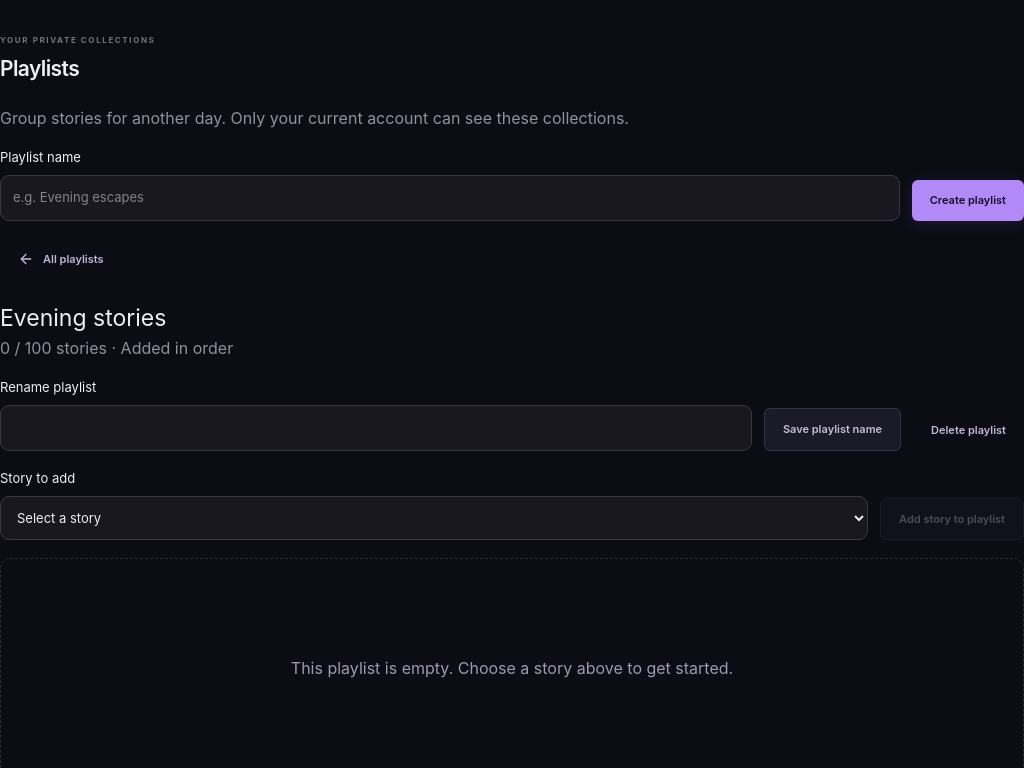
Test: requires confirmation for deletion and exposes server membership errors without discarding the story choice
Expected: the heading "Evening stories" is shown, [0, 304, 166, 332]
Select "The Midnight Frequency" in the dropdown labelled "Story to add" at (434, 518), box [0, 496, 868, 540]
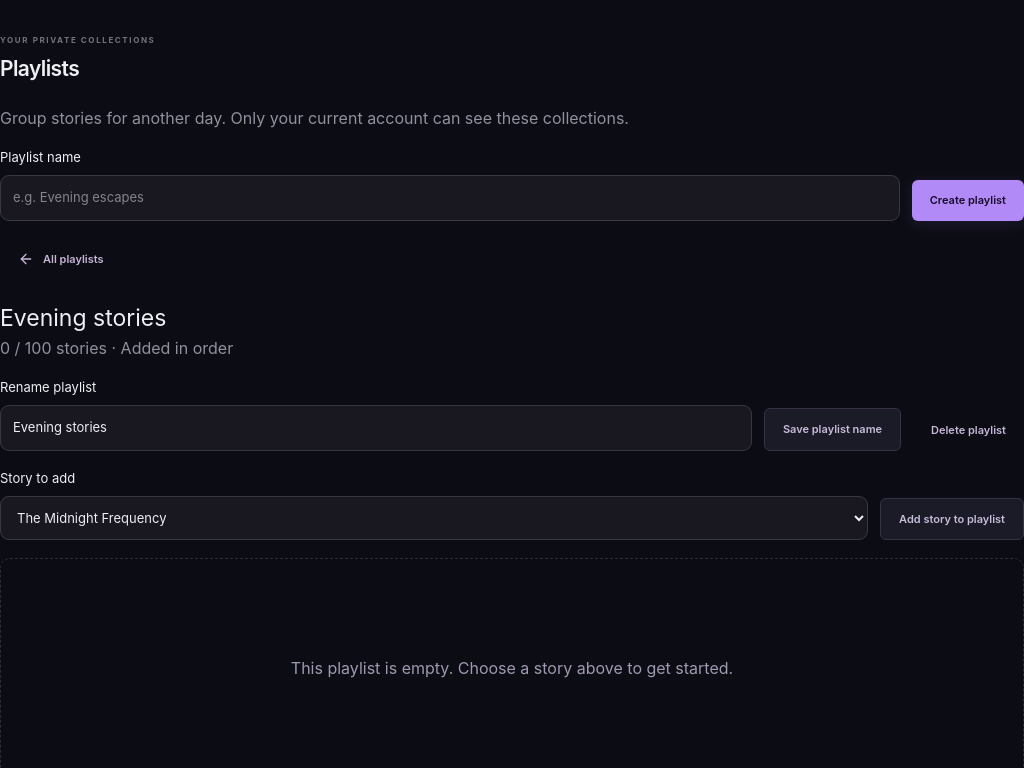
Click the button "Add story to playlist".
click(952, 519)  # box [880, 498, 1023, 540]
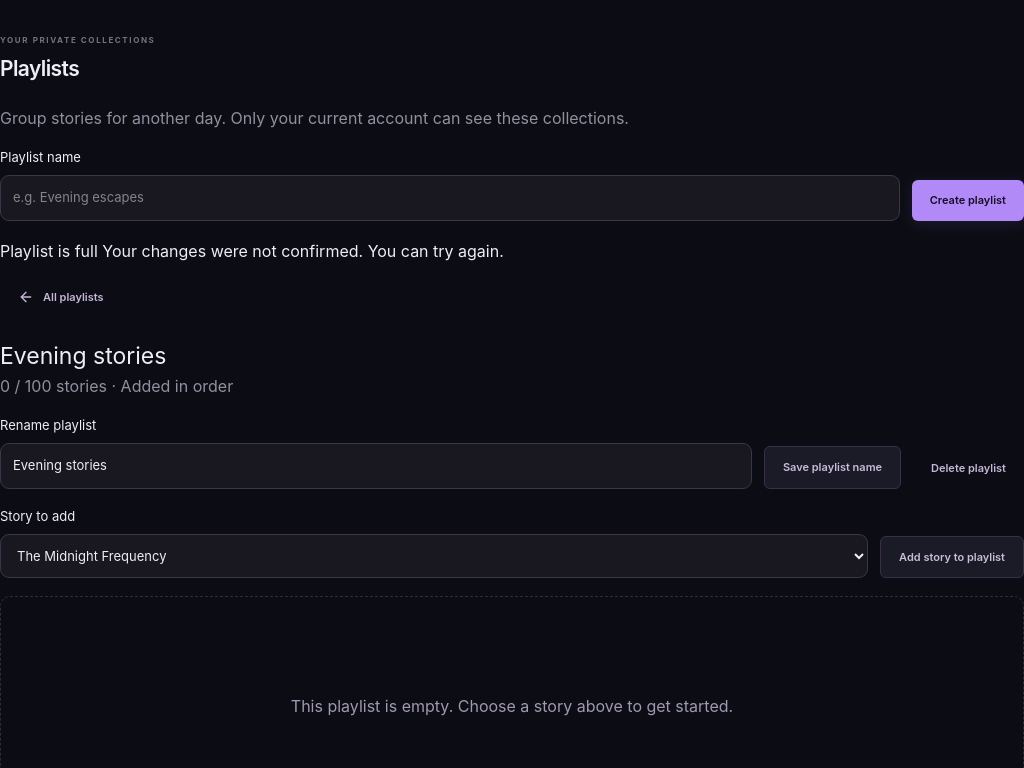
Expected: the message "Playlist is full Your changes were not confirmed. You can try again." is shown, [0, 240, 504, 260]
Click the button "Delete playlist".
click(968, 468)  # box [913, 448, 1023, 488]
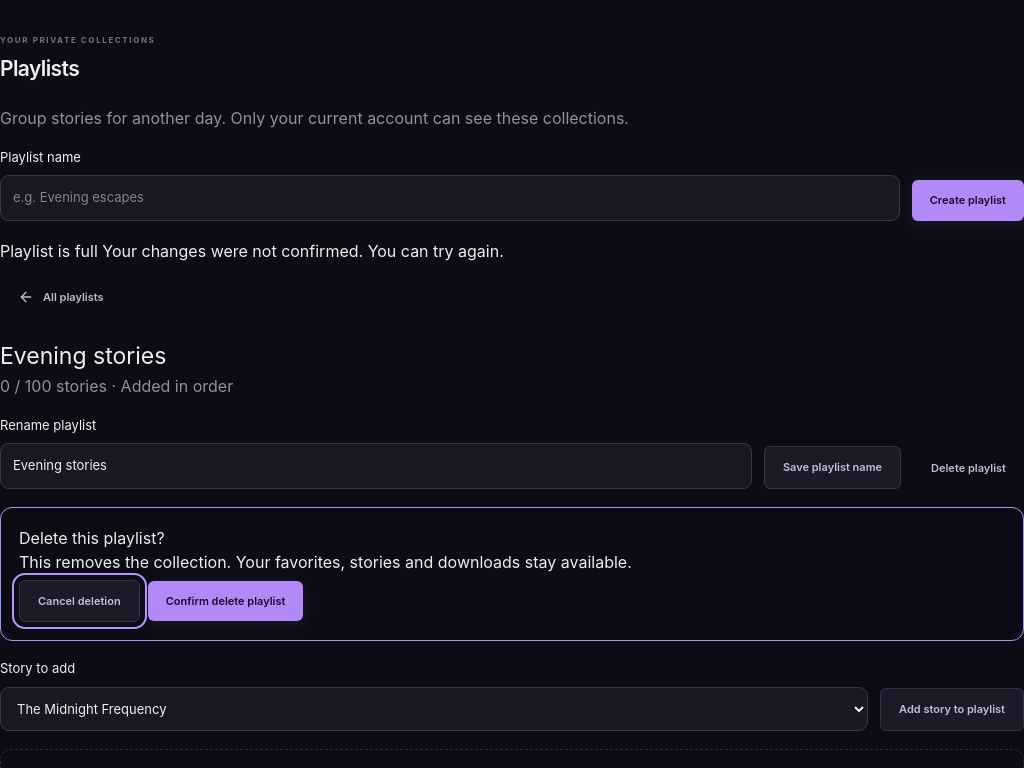
Expected: the dialog is shown, [0, 506, 1023, 641]
Click the button "Cancel deletion".
click(79, 601)  # box [19, 580, 140, 622]
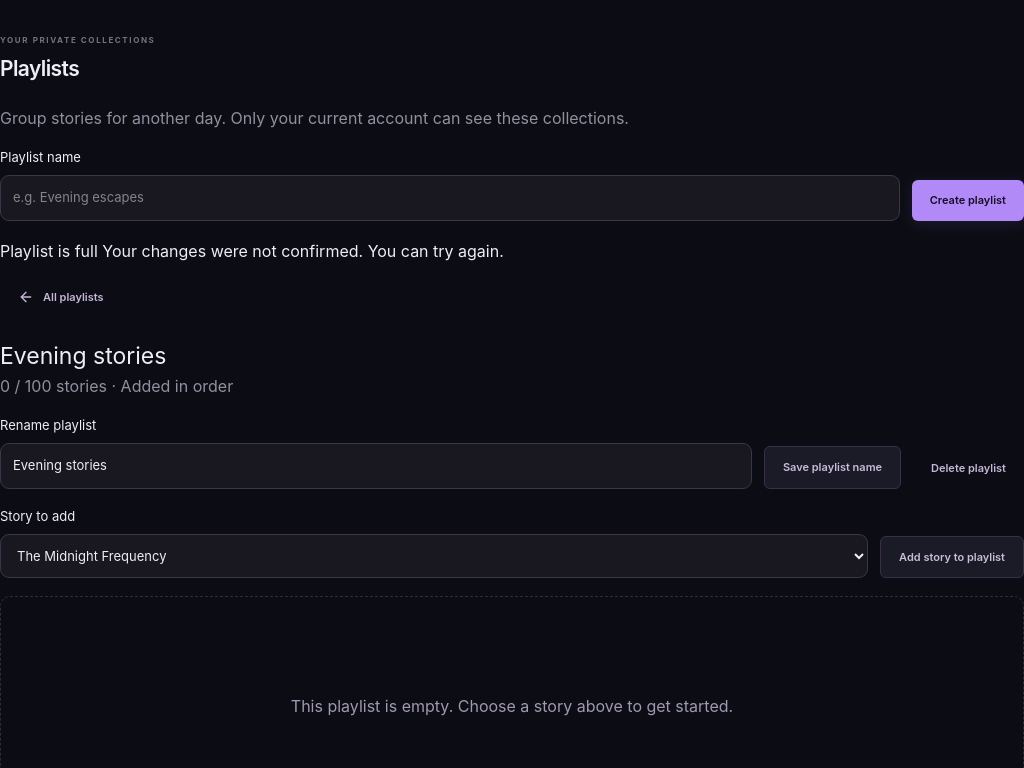
Expected: the dialog is gone
Click the button "Delete playlist".
click(968, 468)  # box [913, 448, 1023, 488]
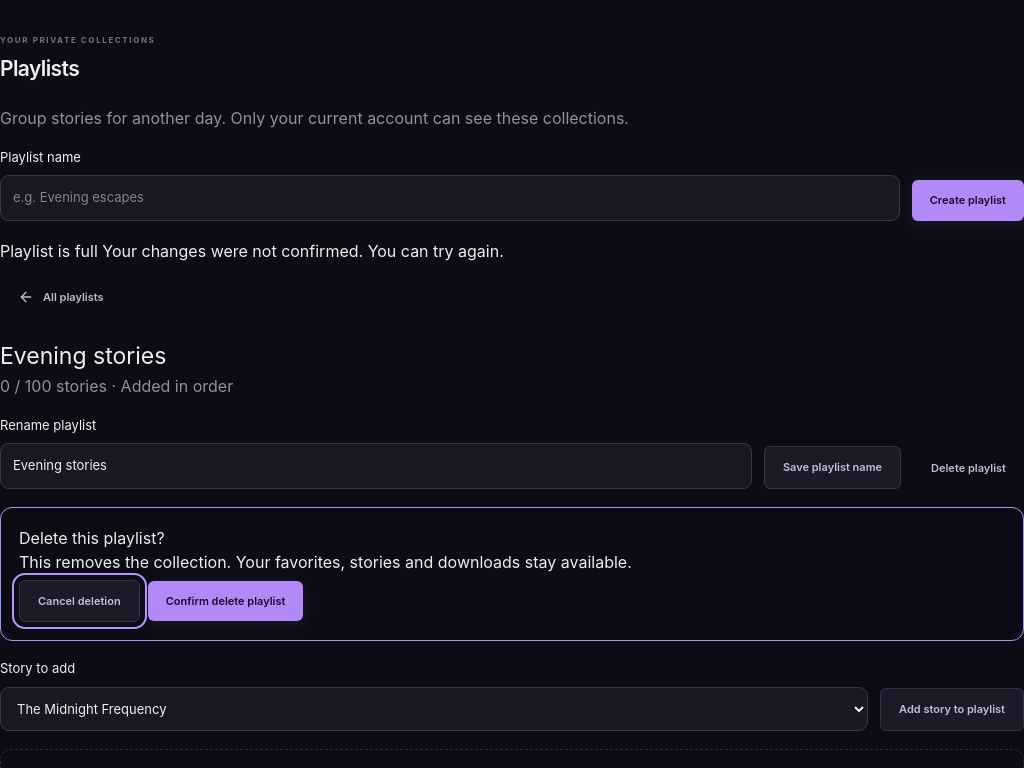
Click the button "Confirm delete playlist".
click(226, 601)  # box [148, 580, 304, 621]
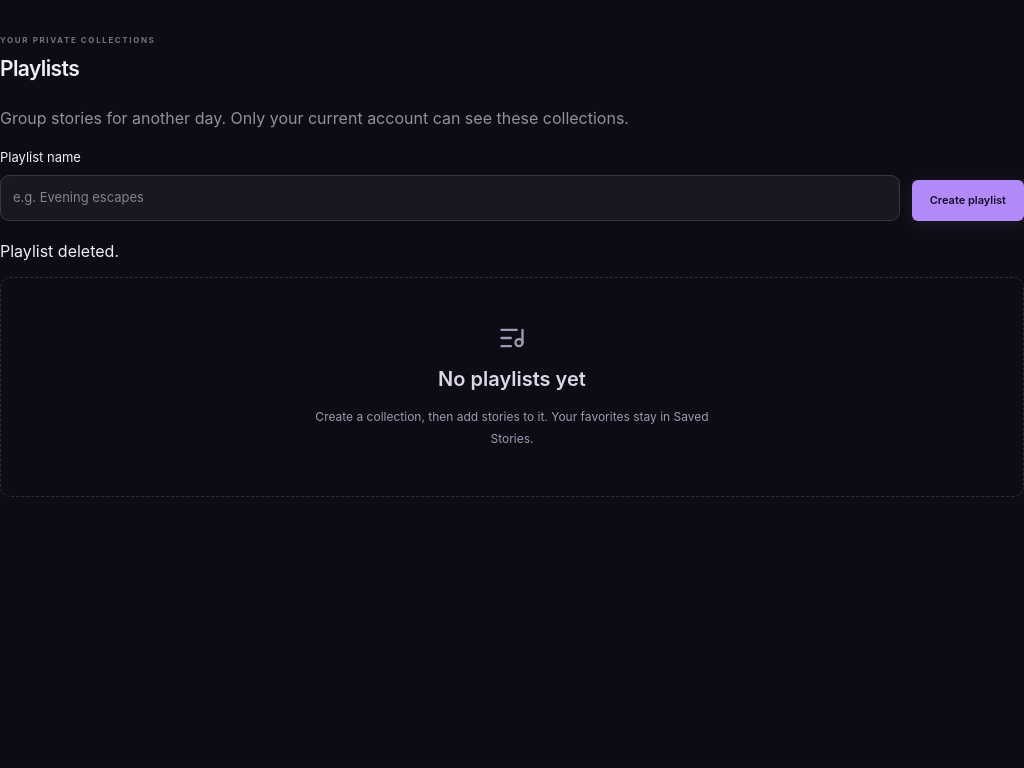
Expected: the text "Playlist deleted." is shown, [0, 240, 119, 260]
